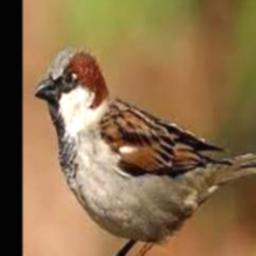Sparrow: (34, 48, 256, 256)
